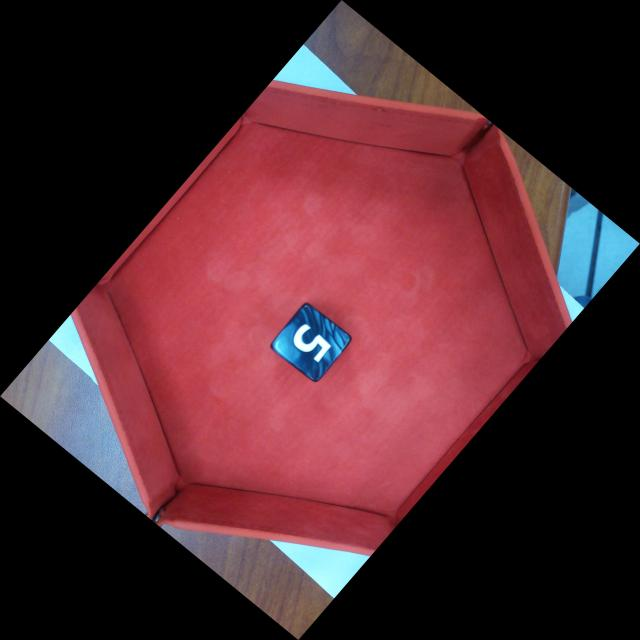dice: (273, 302, 349, 381)
